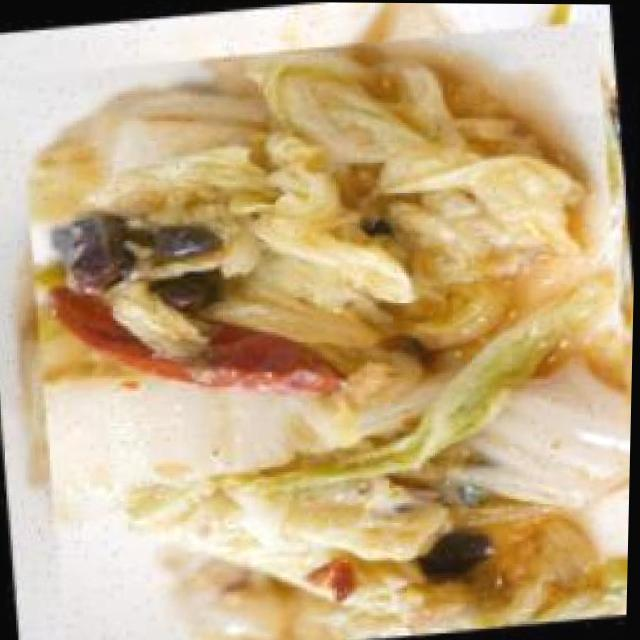chinese_cabbage: (0, 20, 640, 640)
